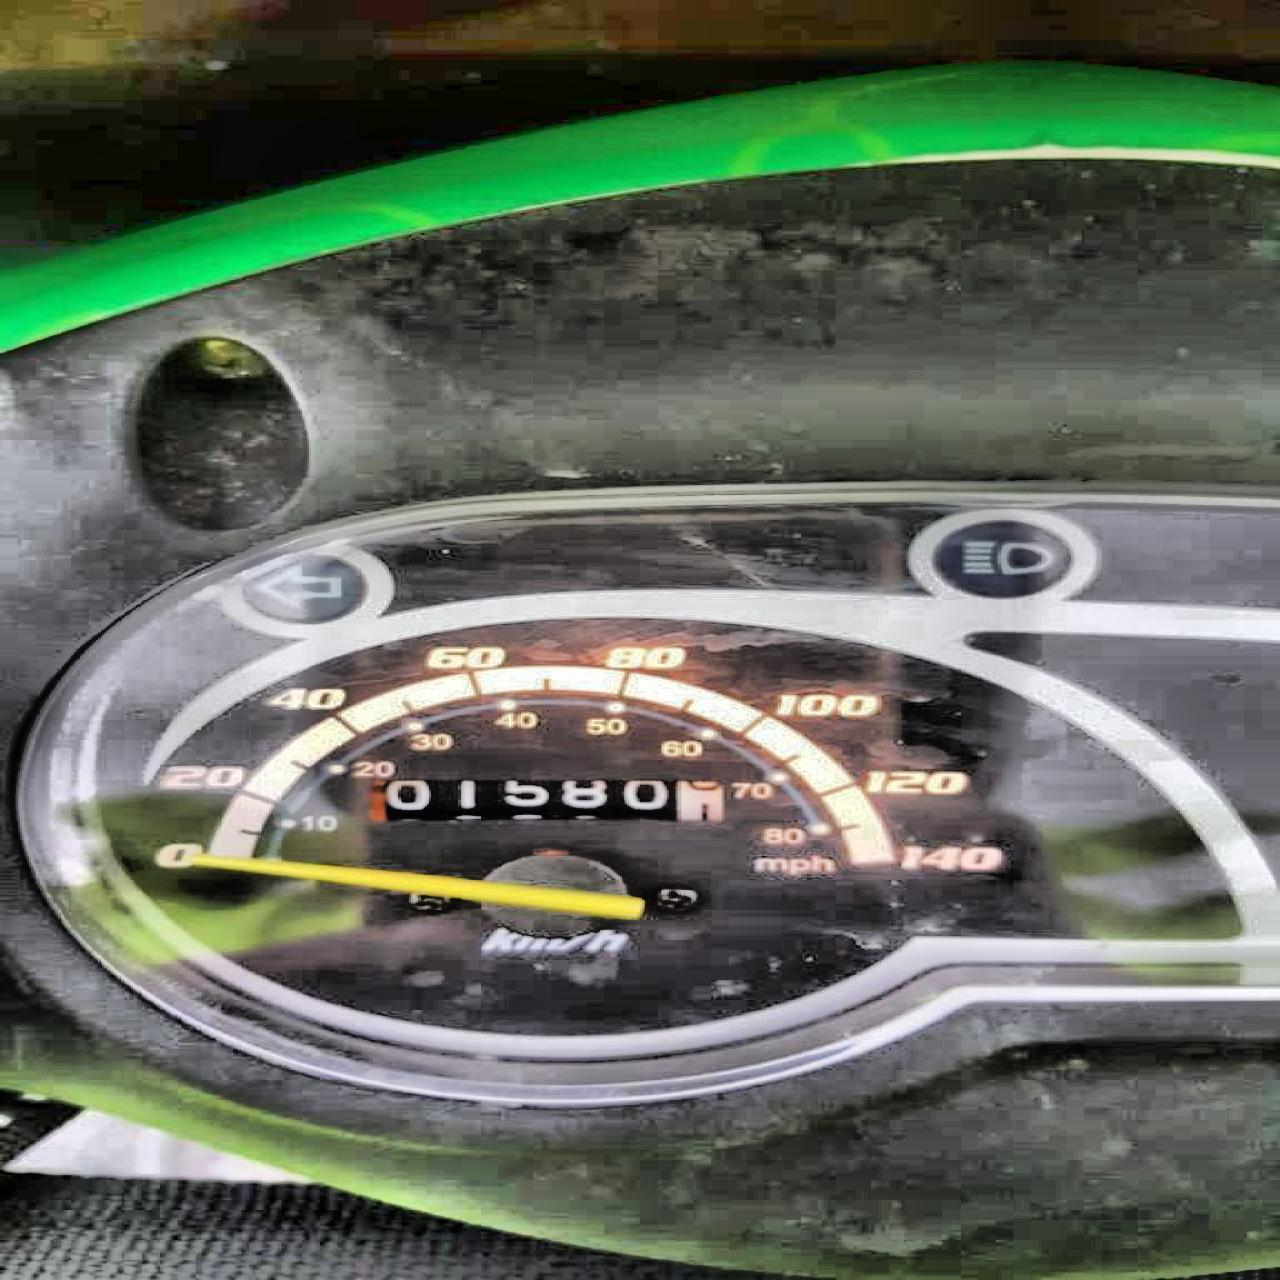0: (615, 778, 669, 812), (380, 778, 434, 811)
1: (451, 778, 485, 811), (689, 797, 720, 822)
5: (502, 777, 549, 811)
8: (560, 779, 610, 810)
odometer: (365, 777, 727, 823)
